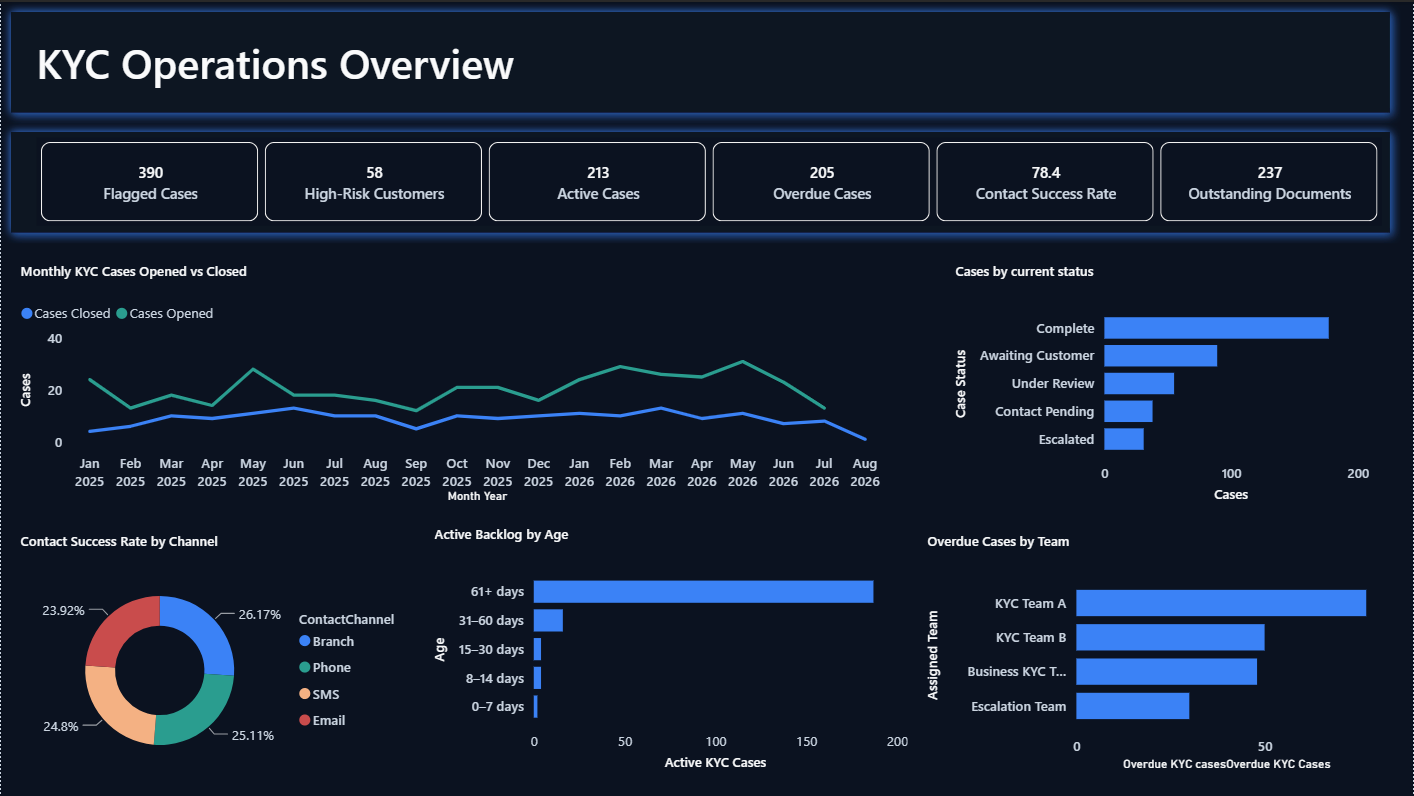

What the dashboard file says about the page in this screenshot:
{"tool":"powerbi","page":{"name":"KYC Dashboard","canvas":[1280,720],"ordinal":1},"visuals":[{"type":"shape","box":[0,109.1,1268.5,109.5],"z":0},{"type":"shape","box":[0,0,1268.5,109.5],"z":1000},{"type":"textbox","box":[26.8,24.9,1162.6,78.1],"z":2000},{"type":"cardVisual","fields":{"Data":["FactKYCCase.Flagged KYC Cases","FactKYCCase.High-Risk Flagged Customers","FactKYCCase.Active KYC Cases","FactKYCCase.Overdue KYC casesOverdue KYC Cases","FactKYCCase.Contact Success Rate","Sum(FactKYCCase.DocumentsOutstanding)"]},"box":[26.8,117.8,1233.1,90.9],"z":3000},{"type":"lineChart","title":"Monthly KYC Cases Opened vs Closed","fields":{"Category":["DimDate.Month Year New"],"Y":["FactKYCCase.Cases Closed","FactKYCCase.Flagged KYC Cases"]},"box":[12.4,235.5,792.7,223.1],"z":4000},{"type":"barChart","title":"Cases by current status","fields":{"Category":["DimCaseStatus.CaseStatus"],"Y":["FactKYCCase.Flagged KYC Cases"]},"box":[860.7,235.5,384.9,223.1],"z":5000},{"type":"donutChart","title":"Contact Success Rate by Channel","fields":{"Category":["DimContactChannel.ContactChannel"],"Y":["FactKYCCase.Contact Success Rate"]},"box":[12.4,480.6,371.5,224],"z":6000},{"type":"clusteredBarChart","title":"Active Backlog by Age","fields":{"Category":["FactKYCCase.AgeBucket"],"Y":["FactKYCCase.Active KYC Cases"]},"box":[387.7,473.9,439.4,227.9],"z":7000},{"type":"clusteredBarChart","title":" Overdue Cases by Team ","fields":{"Category":["DimTeam.AssignedTeam"],"Y":["FactKYCCase.Overdue KYC casesOverdue KYC Cases"]},"box":[834.8,480.6,425.1,221.2],"z":8000}]}

Visuals, with their boxes in screenshot pixels (x1, y1, x2, y2), scaled from the page's 1280x720 canvas onto the 1414x796 screenshot:
shape: [0, 121, 1401, 242]
shape: [0, 0, 1401, 121]
textbox: [30, 28, 1314, 114]
cardVisual - FactKYCCase.Flagged KYC Cases x FactKYCCase.High-Risk Flagged Customers: [30, 130, 1392, 231]
"Monthly KYC Cases Opened vs Closed" lineChart: [14, 260, 889, 507]
"Cases by current status" barChart: [951, 260, 1376, 507]
"Contact Success Rate by Channel" donutChart: [14, 531, 424, 779]
"Active Backlog by Age" clusteredBarChart: [428, 524, 914, 776]
" Overdue Cases by Team " clusteredBarChart: [922, 531, 1392, 776]
